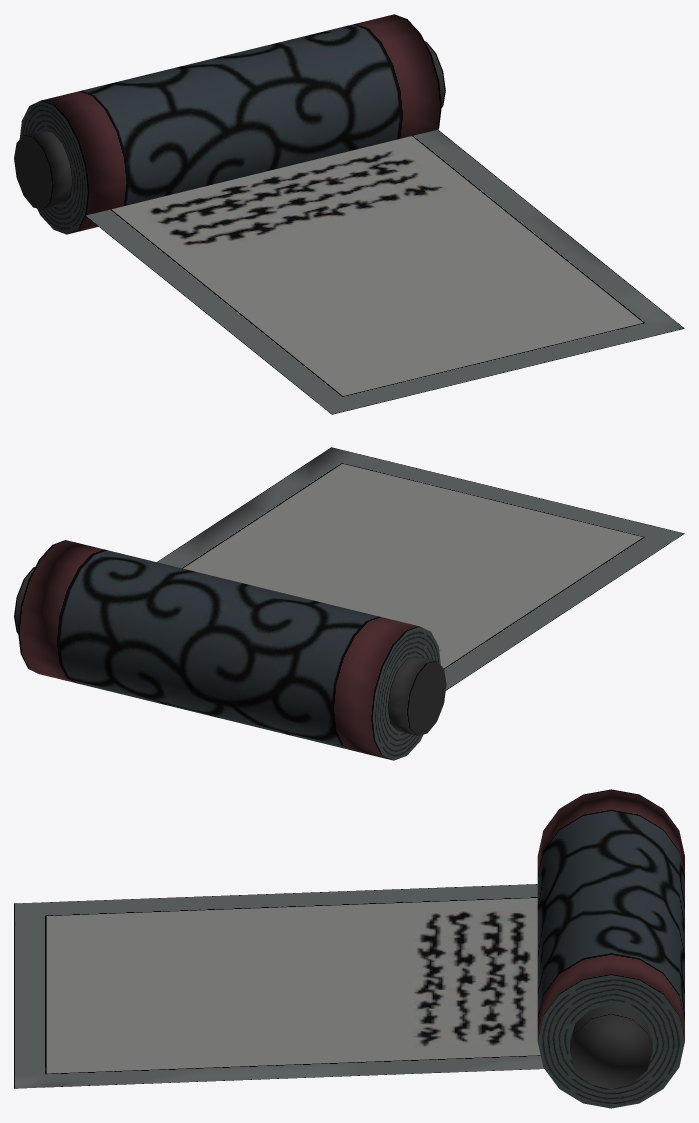
Rendered from Pergamino Ninja.fbx.
The picture shows the model from 3 angles, top to bottom: view 1: azimuth 30°, elevation 25°; view 2: azimuth 150°, elevation 25°; view 3: azimuth 270°, elevation 25°; orthographic projection. The views are drawn at different scales.
Visible parts, largest first — view 1: Papel, Rollo; view 2: Papel, Rollo; view 3: Papel, Rollo.
Part boxes in pixels (bbox=[...]): Papel: bbox=[85, 129, 684, 414]; Rollo: bbox=[14, 14, 445, 234]; Papel: bbox=[157, 447, 684, 690]; Rollo: bbox=[14, 540, 446, 760]; Papel: bbox=[14, 884, 543, 1088]; Rollo: bbox=[537, 789, 684, 1108].
Bounding box in the file's own units: 27.68 × 8.35 × 38.06.
1 material, 1 textured.
